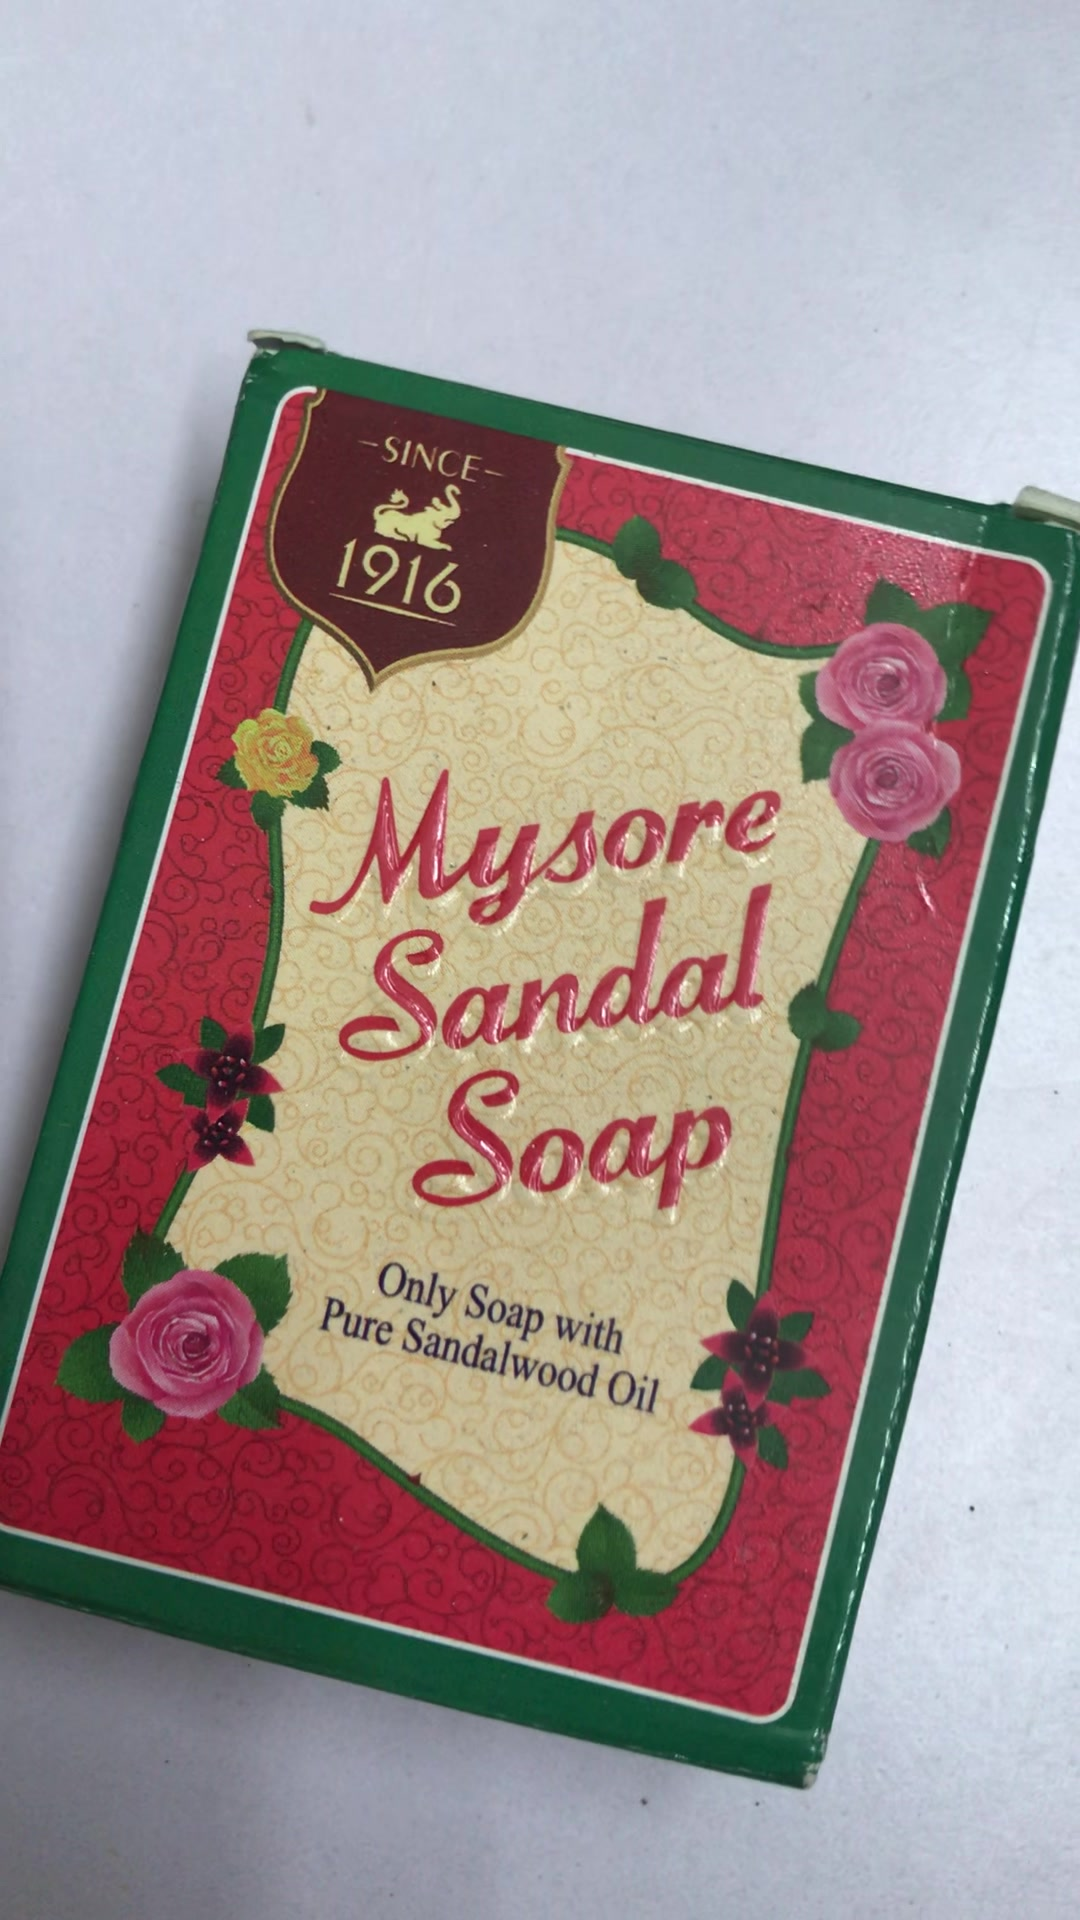mysore sandal soap: (3, 344, 1080, 1795)
